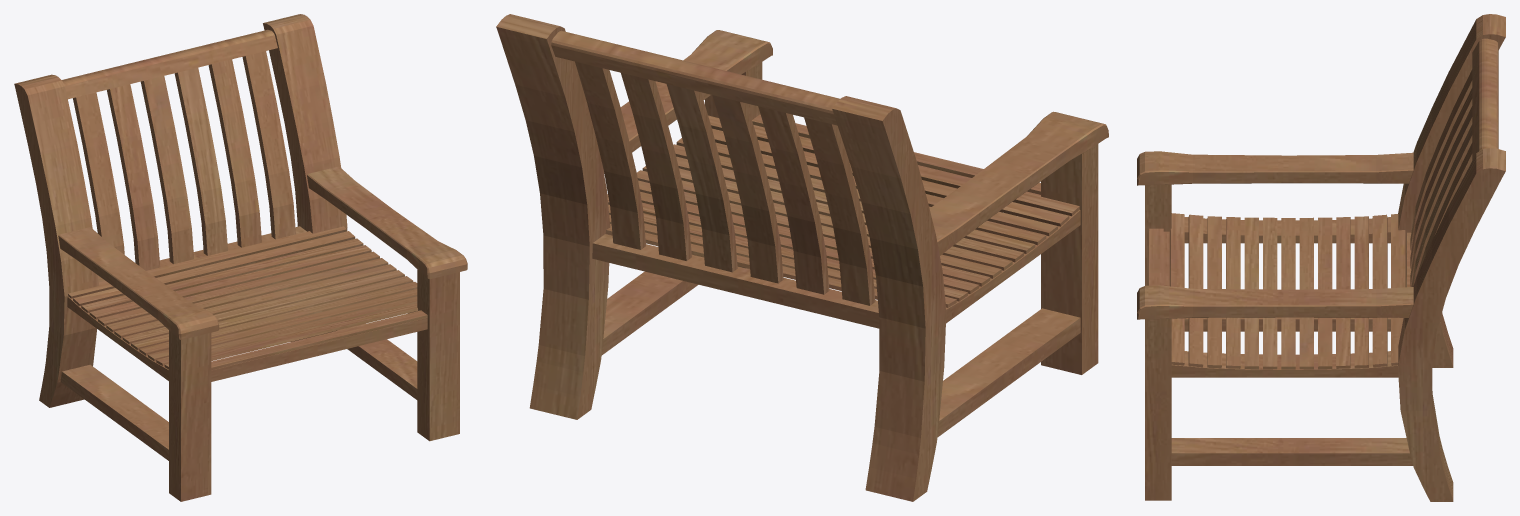
File: sh-scopia-silla-teca.glb
3 renders of one model, left to right at view 1: azimuth 30°, elevation 25°; view 2: azimuth 150°, elevation 25°; view 3: azimuth 270°, elevation 25°, orthographic. The views are drawn at different scales.
Parts seen in each view (by area): view 1: theca_chair_Cube.001; view 2: theca_chair_Cube.001; view 3: theca_chair_Cube.001.
Boxes of the visible parts, left/top/right/bottom form: theca_chair_Cube.001: left=14, top=14, right=467, bottom=501; theca_chair_Cube.001: left=496, top=14, right=1108, bottom=501; theca_chair_Cube.001: left=1137, top=14, right=1505, bottom=501.
Bounding box in the file's own units: 1 × 1 × 1.
1 material, 1 textured.
